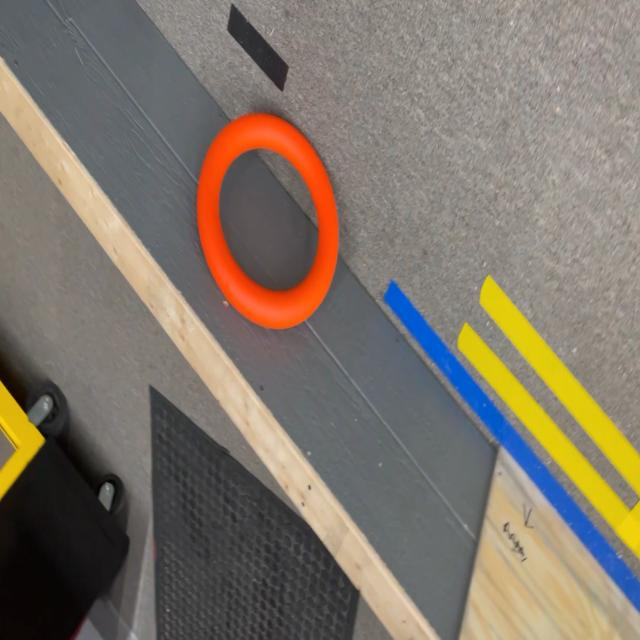note: (196, 112, 338, 328)
